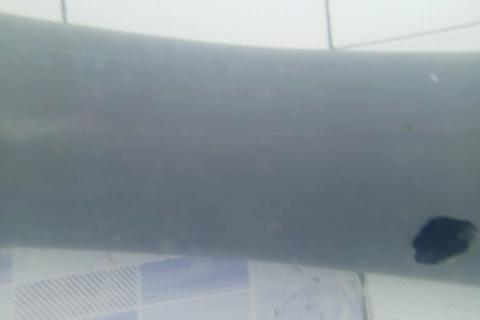kebocoran: (409, 214, 476, 269)
